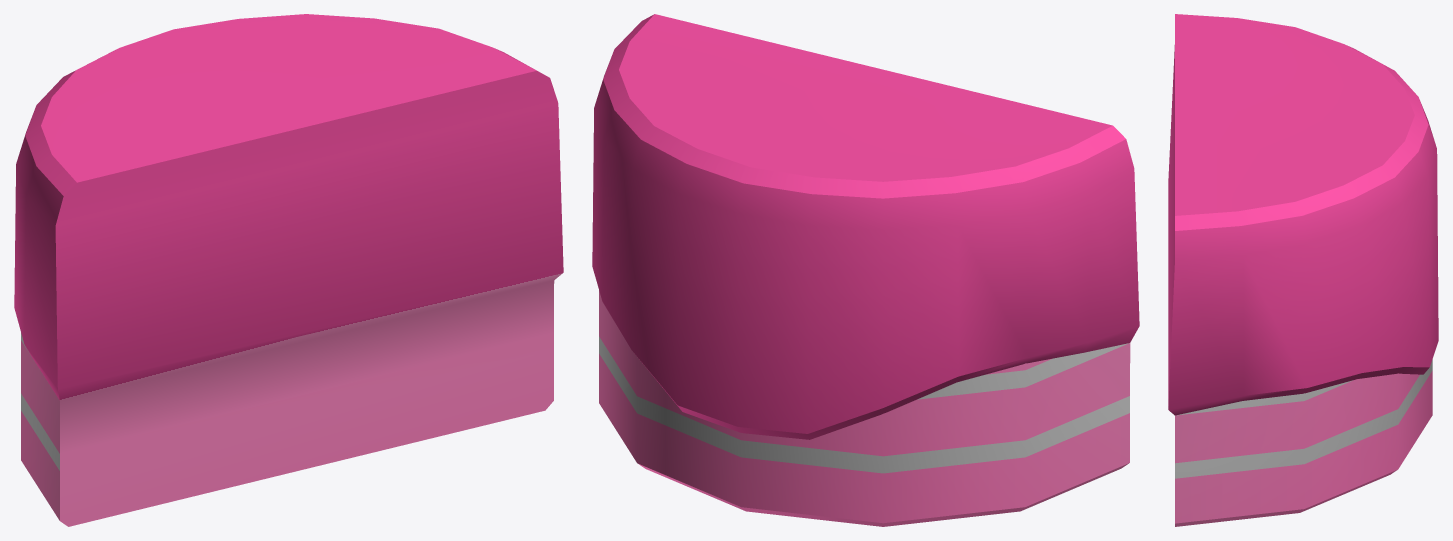
File: Cake_2 Half_1.fbx
3 views of the same model, side by side, from view 1: azimuth 30°, elevation 25°; view 2: azimuth 150°, elevation 25°; view 3: azimuth 270°, elevation 25° (orthographic). The views are drawn at different scales.
Parts seen in each view (by area): view 1: Cake_2 Half_1; view 2: Cake_2 Half_1; view 3: Cake_2 Half_1.
Boxes of the visible parts, x1,y1,x2,y2 form: Cake_2 Half_1: (14, 14, 563, 526); Cake_2 Half_1: (592, 14, 1139, 526); Cake_2 Half_1: (1168, 14, 1438, 526).
Size of the model in its own units: 0.2667 by 0.1726 by 0.1374.
